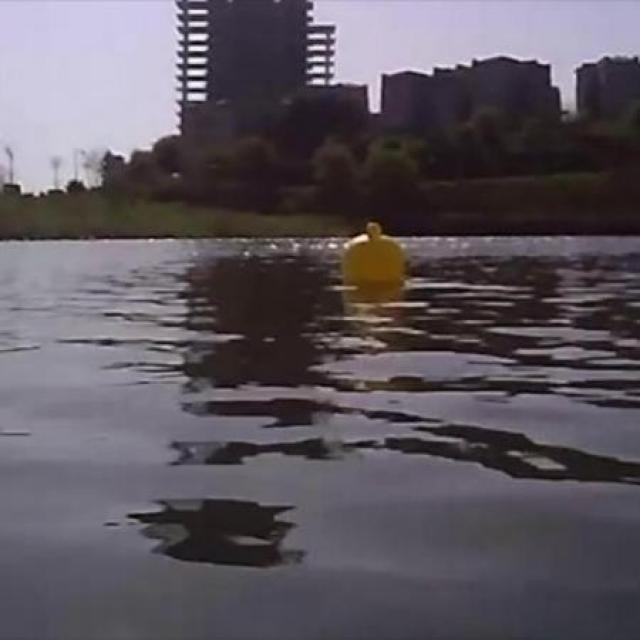buoy: (340, 222, 405, 290)
